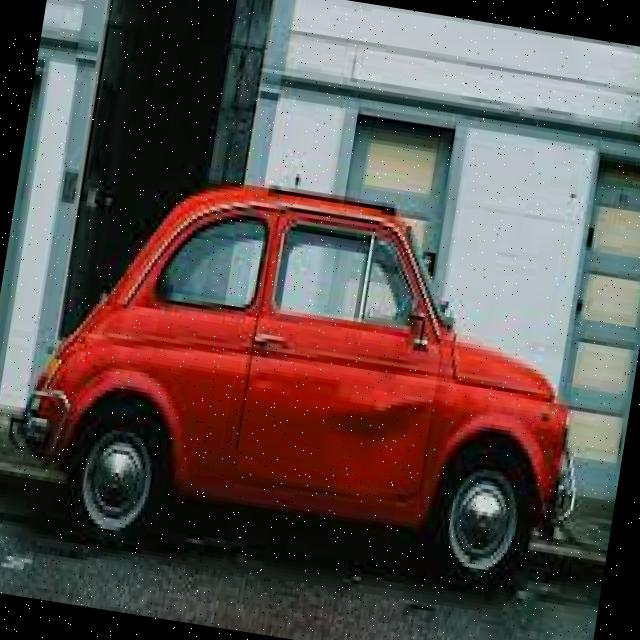Dent: (262, 338, 435, 506)
